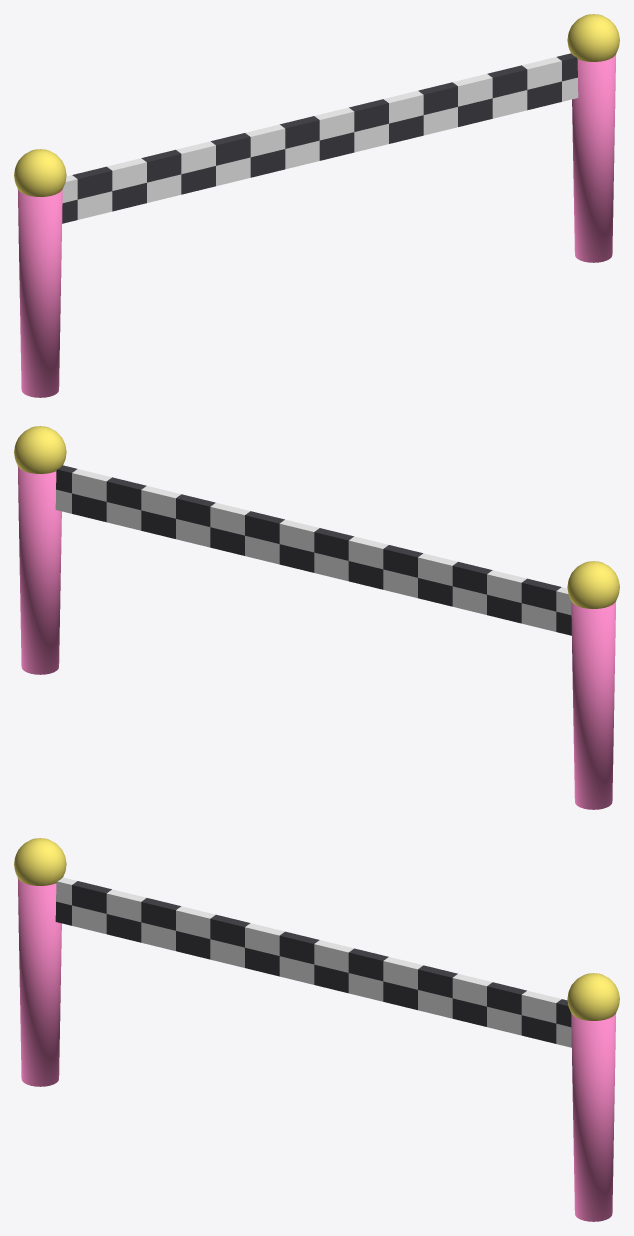
File: finish.glb
3 views of the same model, one above another, from view 1: azimuth 30°, elevation 25°; view 2: azimuth 150°, elevation 25°; view 3: azimuth 330°, elevation 25° (orthographic).
Visible parts, largest first — view 1: FinPost-1, FinPost1, FinBall-1, FinBall1, Check8_1, Check1_1, Check13_1, Check6_1, Check2_1, Check10_1, Check14_1, Check3_1 (+20 smaller); view 2: FinPost-1, FinPost1, FinBall-1, FinBall1, Check8_1, Check1_1, Check13_1, Check6_1, Check2_1, Check10_1, Check14_1, Check3_1 (+20 smaller); view 3: FinPost1, FinPost-1, FinBall1, FinBall-1, Check7_1, Check14_1, Check2_1, Check9_1, Check1_1, Check5_1, Check13_1, Check11_1 (+20 smaller).
Boxes of the visible parts, x1,y1,x2,y2 form: FinPost-1: [17, 189, 62, 397]; FinPost1: [572, 54, 616, 262]; FinBall-1: [14, 149, 66, 196]; FinBall1: [567, 14, 619, 61]; Check8_1: [314, 107, 354, 140]; Check1_1: [72, 166, 112, 199]; Check13_1: [487, 65, 527, 98]; Check6_1: [245, 124, 285, 157]; Check2_1: [107, 158, 146, 190]; Check10_1: [383, 90, 423, 123]; Check14_1: [522, 57, 561, 89]; Check3_1: [141, 149, 181, 182]; FinPost-1: [571, 601, 616, 809]; FinPost1: [17, 466, 61, 674]; FinBall-1: [567, 561, 619, 608]; FinBall1: [14, 426, 66, 473]; Check8_1: [279, 519, 319, 552]; Check1_1: [521, 578, 561, 611]; Check13_1: [106, 477, 146, 510]; Check6_1: [348, 536, 388, 569]; Check2_1: [487, 570, 526, 602]; Check10_1: [210, 502, 250, 535]; Check14_1: [72, 469, 111, 501]; Check3_1: [452, 561, 492, 594]; FinPost1: [571, 1013, 616, 1221]; FinPost-1: [17, 878, 61, 1086]; FinBall1: [567, 973, 619, 1020]; FinBall-1: [14, 838, 66, 885]; Check7_1: [279, 931, 319, 964]; Check14_1: [521, 990, 561, 1023]; Check2_1: [106, 889, 146, 922]; Check9_1: [348, 948, 388, 981]; Check1_1: [72, 881, 111, 913]; Check5_1: [210, 914, 250, 947]; Check13_1: [487, 982, 526, 1014]; Check11_1: [418, 965, 457, 998].
Size of the model in its own units: 18.4 by 7 by 1.4.
